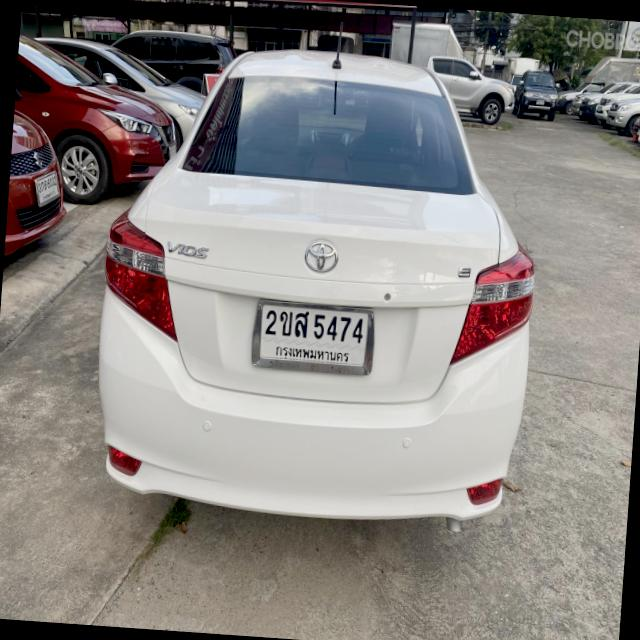license_plate: (249, 294, 376, 377), (32, 168, 64, 207)
